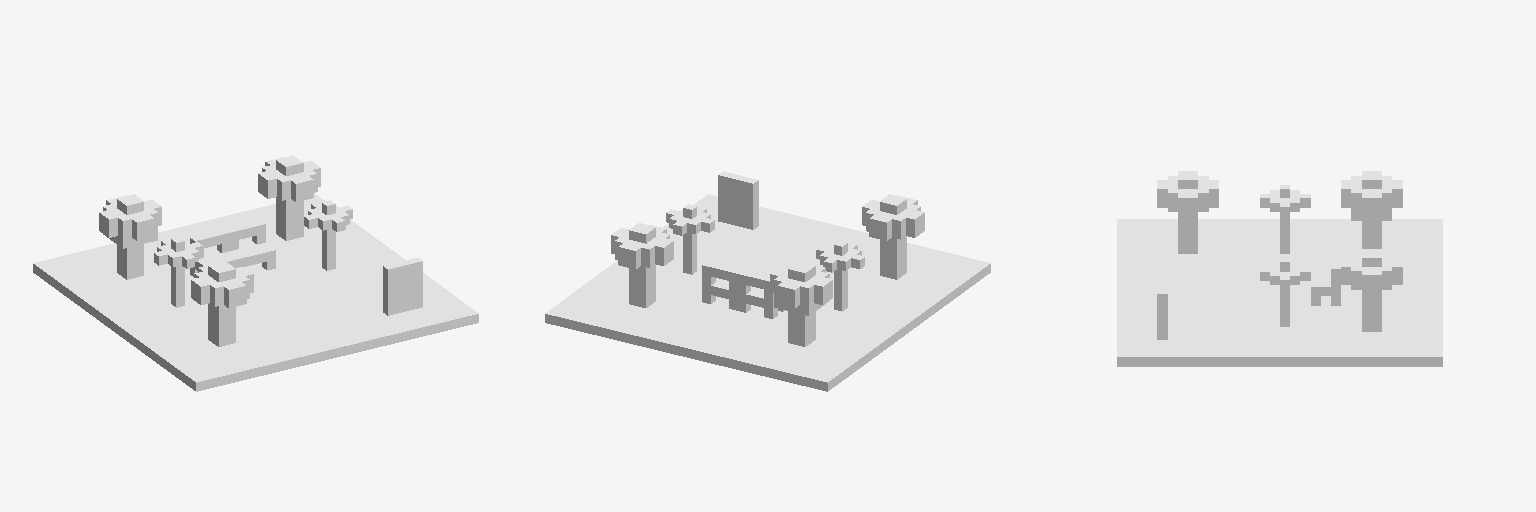
File: park2.obj
3 renders of one model, left to right at view 1: azimuth 30°, elevation 25°; view 2: azimuth 150°, elevation 25°; view 3: azimuth 270°, elevation 25°, orthographic.
Visible parts, largest first — view 1: object 1; view 2: object 1; view 3: object 1.
Boxes of the visible parts, x1,y1,x2,y2 form: object 1: [33, 156, 478, 391]; object 1: [545, 171, 990, 391]; object 1: [1117, 171, 1442, 366].
Bounding box in the file's own units: 3.2 × 0.9 × 3.2.